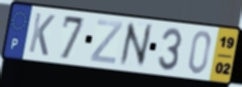0: (187, 29, 213, 76)
3: (156, 26, 184, 72)
7: (60, 13, 85, 61)
K: (26, 11, 57, 58)
N: (118, 21, 154, 68)
Z: (88, 18, 124, 66)
